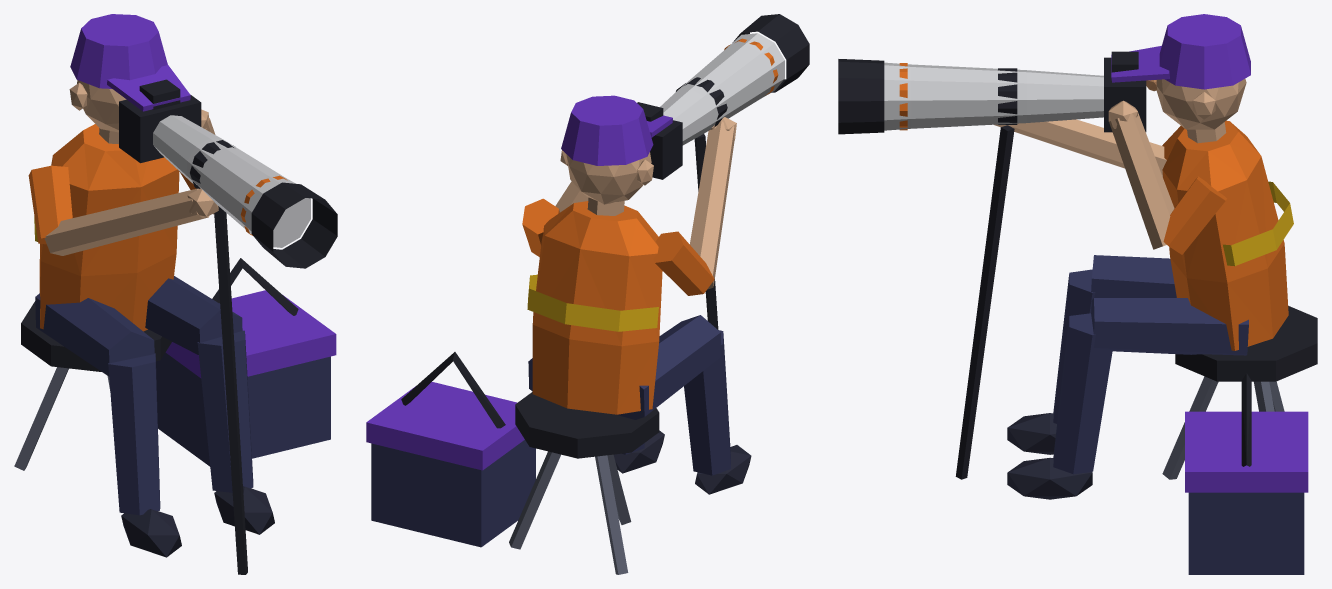
Rendered from camera-crew.glb.
3 renders of one model, left to right at view 1: azimuth 30°, elevation 25°; view 2: azimuth 150°, elevation 25°; view 3: azimuth 270°, elevation 25°, orthographic. The views are drawn at different scales.
Visible parts, largest first — view 1: camera-crew; view 2: camera-crew; view 3: camera-crew.
Part boxes in pixels (bbox=[...]): camera-crew: bbox=[14, 14, 337, 574]; camera-crew: bbox=[366, 14, 809, 574]; camera-crew: bbox=[838, 14, 1317, 574].
Bounding box in the file's own units: 0.8972 × 1.29 × 1.24.
